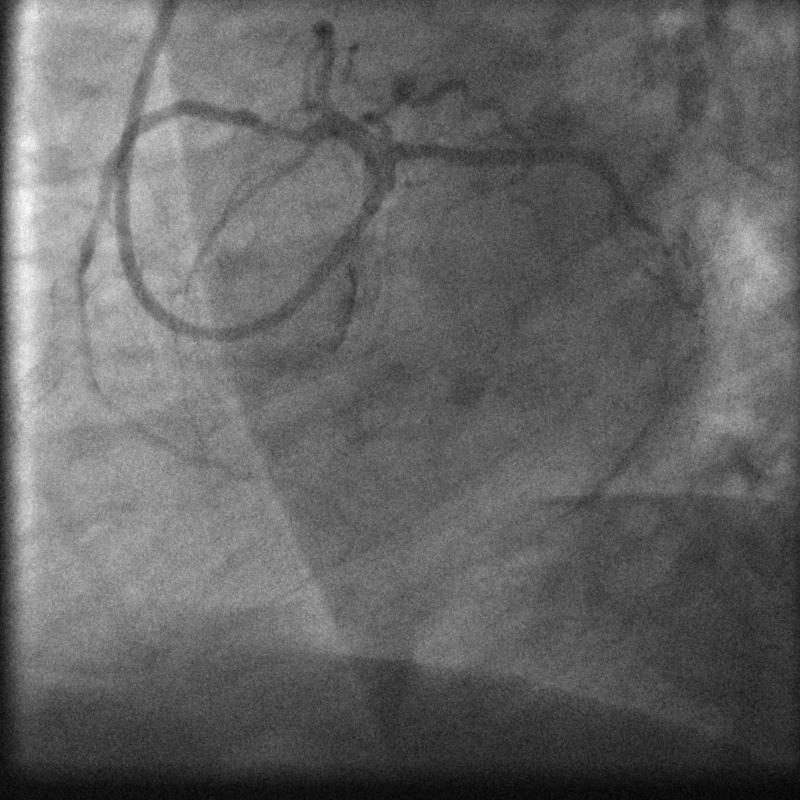Stenosis: (254, 104, 312, 159)
